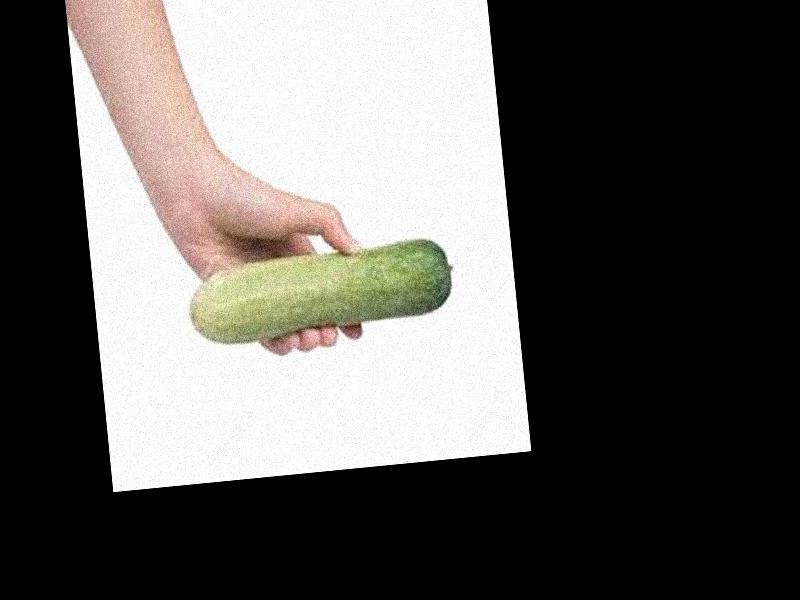Cucumber: (182, 231, 458, 345)
